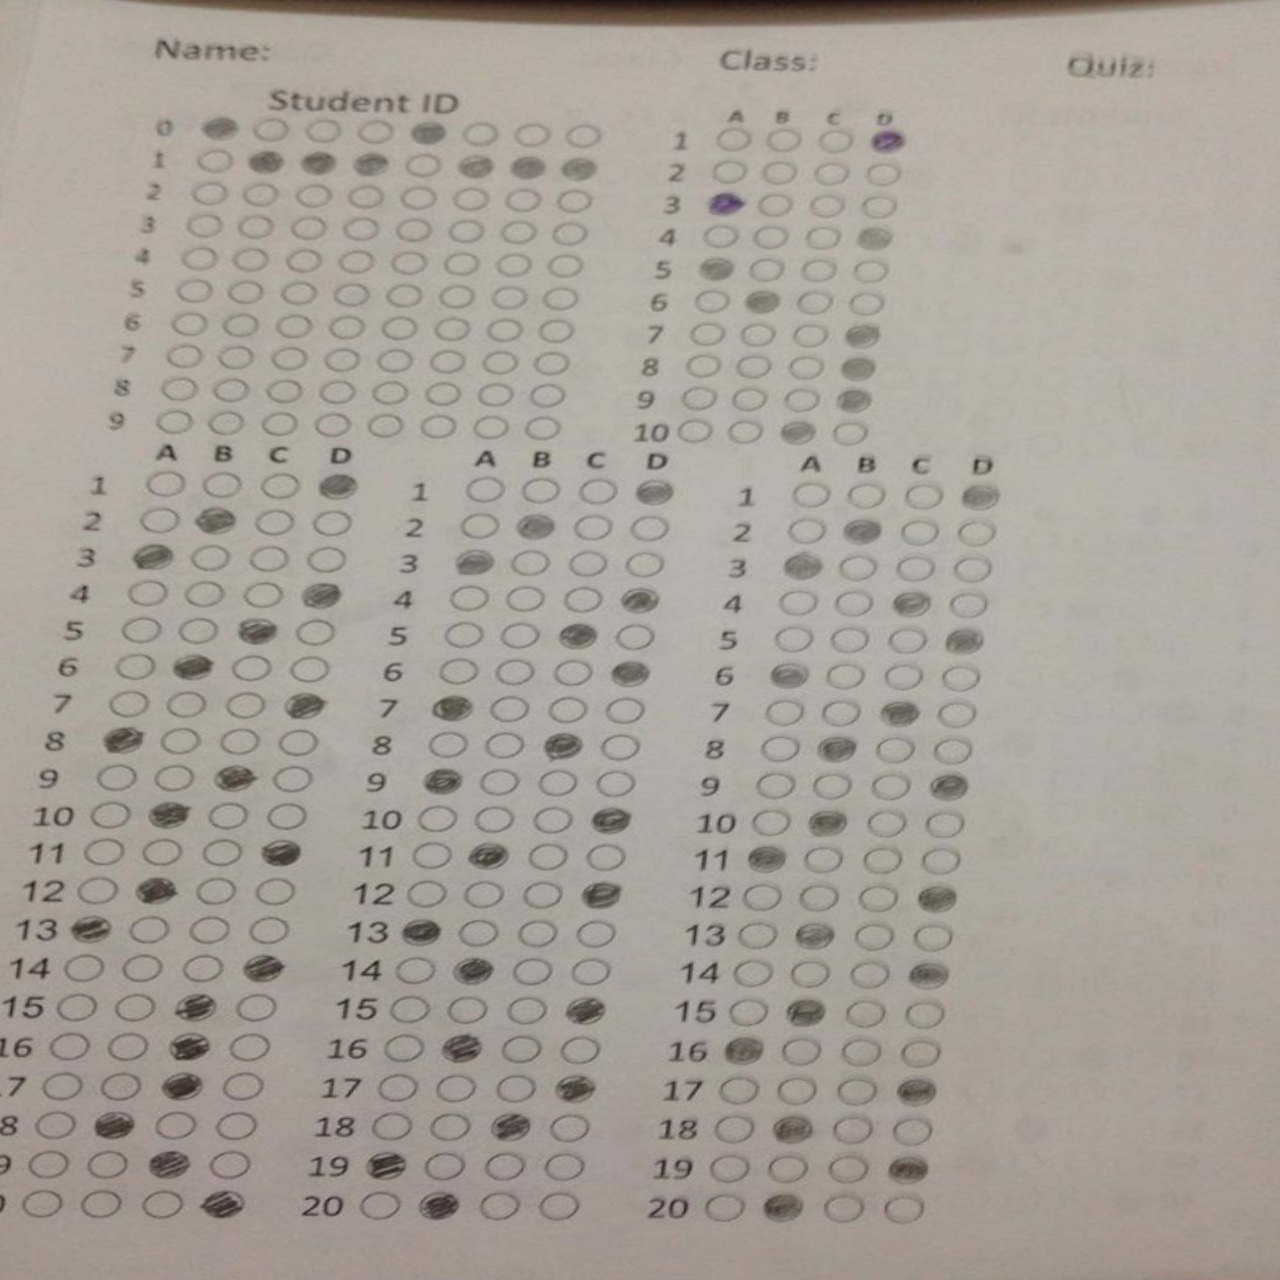not-c: (377, 1033, 433, 1065), (877, 1193, 935, 1224), (136, 1189, 192, 1220), (209, 1112, 263, 1144), (70, 874, 122, 907), (552, 1033, 602, 1065), (539, 1152, 590, 1185), (822, 1189, 869, 1224), (901, 998, 951, 1030), (832, 1075, 878, 1110), (137, 836, 188, 867), (572, 919, 622, 951), (21, 1149, 75, 1178), (471, 1193, 525, 1223), (402, 840, 455, 870), (516, 878, 568, 907), (784, 959, 837, 988), (124, 914, 171, 947), (493, 1071, 540, 1104), (522, 840, 572, 871), (700, 1192, 750, 1223), (104, 1029, 152, 1061), (547, 658, 592, 692), (574, 477, 624, 508), (384, 994, 434, 1024), (495, 1033, 544, 1063), (423, 1112, 472, 1143), (896, 517, 945, 547), (45, 1030, 91, 1062), (564, 549, 611, 580), (842, 998, 888, 1029), (917, 845, 967, 874), (887, 1118, 938, 1148), (799, 844, 847, 874), (795, 881, 843, 912), (192, 874, 237, 907), (252, 874, 297, 907), (937, 699, 981, 731), (268, 765, 320, 794), (204, 1149, 256, 1177), (829, 625, 874, 656), (777, 1075, 823, 1107), (611, 622, 660, 652), (515, 919, 564, 948), (455, 915, 497, 949), (198, 470, 248, 498), (230, 994, 280, 1022), (401, 881, 451, 910), (353, 1193, 403, 1221), (838, 1039, 888, 1067), (481, 1152, 525, 1184), (938, 662, 982, 694), (150, 763, 198, 792), (96, 1073, 144, 1102), (570, 515, 618, 544), (546, 1115, 594, 1144), (712, 1077, 760, 1107), (80, 836, 125, 866), (202, 837, 247, 867), (462, 475, 508, 505), (899, 1039, 945, 1069), (263, 804, 312, 832), (444, 996, 493, 1024), (893, 554, 942, 583), (755, 736, 804, 764), (624, 550, 670, 579), (502, 585, 549, 614), (563, 585, 610, 614), (768, 625, 815, 654), (779, 1036, 826, 1065), (376, 1071, 420, 1103), (731, 956, 775, 988), (39, 1073, 89, 1099), (536, 1193, 586, 1220), (225, 689, 270, 720), (181, 953, 225, 983), (229, 654, 277, 682), (59, 955, 107, 983), (411, 805, 459, 833), (508, 956, 556, 985), (567, 959, 615, 987), (366, 1112, 414, 1141), (708, 1115, 756, 1143), (181, 580, 226, 610), (188, 915, 233, 945), (244, 915, 290, 945), (445, 584, 491, 613), (492, 656, 538, 686), (122, 952, 164, 983), (593, 771, 645, 797), (486, 697, 536, 724), (721, 998, 770, 1024), (884, 626, 927, 656), (246, 544, 293, 572), (306, 544, 353, 572), (274, 728, 321, 756), (583, 845, 629, 873), (903, 482, 949, 510), (819, 661, 866, 689), (853, 922, 900, 951), (908, 926, 955, 954), (259, 470, 304, 499), (55, 992, 100, 1021), (956, 517, 1001, 546), (767, 1155, 811, 1184), (103, 689, 151, 716), (220, 1073, 268, 1099), (501, 998, 549, 1024), (921, 811, 969, 838), (219, 727, 261, 757), (433, 1075, 478, 1103), (88, 801, 131, 830), (35, 1111, 79, 1141), (155, 1111, 198, 1141), (438, 658, 482, 687), (709, 1153, 753, 1183), (237, 583, 286, 608), (250, 508, 297, 535), (824, 1157, 871, 1184), (88, 1149, 128, 1180), (95, 765, 139, 794), (787, 515, 831, 543), (837, 552, 878, 583), (110, 654, 161, 679), (18, 1190, 66, 1216), (121, 617, 163, 646), (629, 515, 672, 544), (833, 1115, 876, 1144), (727, 384, 772, 411), (394, 956, 440, 983), (946, 592, 992, 619), (857, 885, 903, 912), (143, 470, 186, 498), (123, 580, 166, 608), (82, 1190, 125, 1218), (764, 697, 804, 728), (392, 216, 438, 241), (138, 505, 185, 531), (601, 697, 648, 723), (304, 117, 345, 147), (190, 544, 231, 573), (755, 772, 799, 799), (809, 772, 853, 799), (745, 808, 790, 835), (551, 220, 593, 248), (260, 411, 302, 440), (165, 692, 207, 720), (935, 736, 978, 764), (168, 309, 211, 336), (312, 411, 355, 438), (161, 726, 204, 753), (600, 734, 644, 761), (776, 588, 819, 615), (819, 125, 859, 155), (404, 151, 445, 179), (173, 618, 220, 642), (734, 352, 775, 380), (847, 961, 888, 989), (429, 316, 474, 342), (484, 316, 529, 342), (831, 591, 876, 617), (863, 811, 907, 837), (533, 350, 576, 377), (549, 697, 591, 724), (463, 883, 505, 910), (115, 993, 154, 1022), (535, 808, 573, 837), (207, 379, 253, 403), (292, 621, 338, 646), (796, 258, 842, 282), (536, 771, 581, 796), (874, 738, 920, 763), (207, 409, 247, 437), (474, 413, 513, 441), (389, 250, 433, 275), (535, 318, 578, 343), (213, 343, 257, 369), (481, 734, 524, 760), (339, 248, 380, 275), (288, 658, 329, 685), (860, 196, 901, 223), (859, 847, 900, 874), (354, 120, 399, 144), (552, 189, 597, 213), (216, 314, 260, 339), (343, 185, 386, 211), (291, 213, 329, 241), (263, 379, 305, 404), (474, 806, 516, 832), (886, 663, 925, 692), (819, 702, 862, 728), (736, 922, 778, 948), (724, 418, 764, 445), (517, 478, 563, 502), (479, 771, 525, 795), (449, 188, 492, 212), (483, 350, 524, 376), (368, 380, 409, 406), (692, 290, 733, 315), (846, 291, 887, 316), (428, 731, 469, 757), (741, 885, 782, 911), (271, 313, 315, 336), (315, 380, 360, 403), (737, 321, 776, 348), (680, 384, 719, 411), (794, 482, 832, 509), (186, 181, 229, 205), (238, 181, 280, 205), (331, 282, 373, 307), (428, 348, 470, 373), (151, 409, 193, 434), (206, 804, 248, 829), (442, 624, 491, 645), (869, 775, 911, 799), (422, 381, 462, 407), (312, 509, 352, 535), (231, 1033, 271, 1058), (788, 355, 828, 381), (369, 413, 406, 441), (842, 485, 887, 508), (491, 254, 535, 278), (324, 315, 367, 339), (252, 115, 290, 142), (765, 127, 803, 154), (679, 418, 716, 445), (286, 248, 327, 273), (270, 347, 311, 372), (792, 324, 833, 348), (423, 1152, 464, 1177), (952, 558, 993, 583), (565, 122, 604, 148), (749, 227, 794, 250), (224, 279, 266, 302), (417, 415, 459, 438), (321, 347, 361, 372), (850, 260, 890, 285), (509, 551, 549, 576), (833, 417, 870, 444), (762, 162, 799, 188), (804, 227, 847, 250), (435, 286, 476, 309), (155, 377, 196, 401), (781, 389, 822, 413), (295, 183, 334, 207), (401, 184, 440, 209), (384, 285, 423, 309), (524, 416, 563, 441), (805, 195, 844, 219), (700, 225, 738, 250), (184, 215, 226, 237), (176, 248, 220, 270), (441, 252, 483, 274), (499, 622, 542, 645), (463, 121, 499, 147), (382, 316, 418, 342), (813, 162, 850, 188), (869, 162, 905, 188), (795, 291, 832, 315), (459, 513, 503, 535), (477, 384, 518, 407), (687, 324, 728, 346), (685, 354, 726, 376), (503, 189, 542, 212), (237, 215, 275, 238), (715, 127, 754, 150), (512, 123, 549, 148), (543, 253, 583, 275), (488, 287, 532, 307), (377, 348, 415, 372), (165, 346, 204, 368), (707, 159, 745, 182), (195, 150, 234, 171), (745, 260, 785, 281), (175, 279, 212, 301), (530, 383, 567, 406), (277, 282, 318, 302), (540, 290, 581, 309), (343, 219, 382, 240), (448, 220, 486, 241), (233, 248, 270, 271), (502, 219, 536, 241), (760, 195, 792, 216)
taken-c: (558, 993, 617, 1028), (888, 1074, 942, 1111), (714, 1032, 769, 1067), (581, 803, 639, 836), (433, 1032, 486, 1065), (394, 915, 447, 949), (227, 614, 282, 646), (612, 585, 667, 617), (576, 879, 631, 911), (159, 1030, 215, 1062), (197, 1186, 252, 1218), (919, 772, 974, 804), (212, 760, 263, 794), (755, 1189, 803, 1224), (91, 726, 147, 756), (127, 540, 179, 572), (604, 658, 656, 689), (128, 874, 181, 906), (956, 481, 1007, 513), (913, 883, 965, 914), (802, 806, 853, 838), (774, 551, 823, 584), (424, 694, 479, 723), (292, 579, 345, 610), (763, 658, 810, 692), (903, 961, 955, 990), (157, 1069, 207, 1099), (145, 1149, 193, 1180), (416, 768, 470, 796), (781, 922, 835, 951), (280, 693, 332, 722), (237, 952, 288, 981), (445, 955, 497, 985), (768, 1115, 819, 1144), (195, 111, 244, 142), (536, 730, 585, 761), (365, 1149, 411, 1180), (741, 844, 789, 874), (418, 1189, 463, 1221), (551, 621, 602, 649), (138, 799, 188, 829), (881, 1155, 931, 1184), (447, 549, 499, 576), (190, 506, 240, 535), (66, 914, 116, 942), (510, 510, 554, 542), (90, 1108, 135, 1139), (486, 1111, 535, 1141), (876, 699, 924, 728), (170, 653, 219, 681), (886, 588, 935, 617), (779, 996, 828, 1024), (838, 324, 886, 352), (551, 1074, 598, 1102), (463, 840, 511, 867), (171, 992, 215, 1021), (692, 254, 736, 282), (503, 154, 549, 181), (867, 127, 911, 155), (776, 417, 819, 445), (945, 625, 986, 654), (851, 225, 896, 252), (631, 478, 673, 506), (816, 731, 858, 760), (738, 290, 784, 315), (259, 840, 302, 867), (452, 150, 493, 178), (316, 474, 361, 499), (703, 188, 745, 215), (554, 154, 600, 178), (241, 148, 282, 175), (836, 518, 878, 544), (297, 151, 340, 176), (406, 120, 448, 144), (837, 359, 878, 383), (835, 389, 874, 411), (350, 150, 389, 172)
